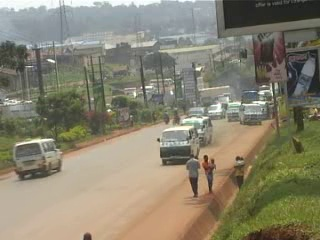Car: (185, 106, 210, 122), (206, 103, 228, 120)
Motorcycle: (160, 109, 169, 125)
